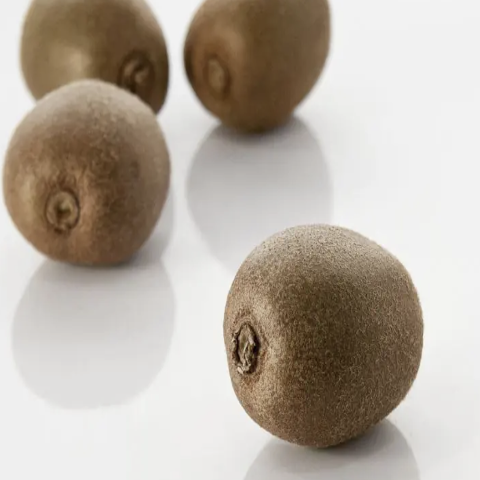kiwi: (205, 207, 442, 461), (0, 78, 194, 284)
